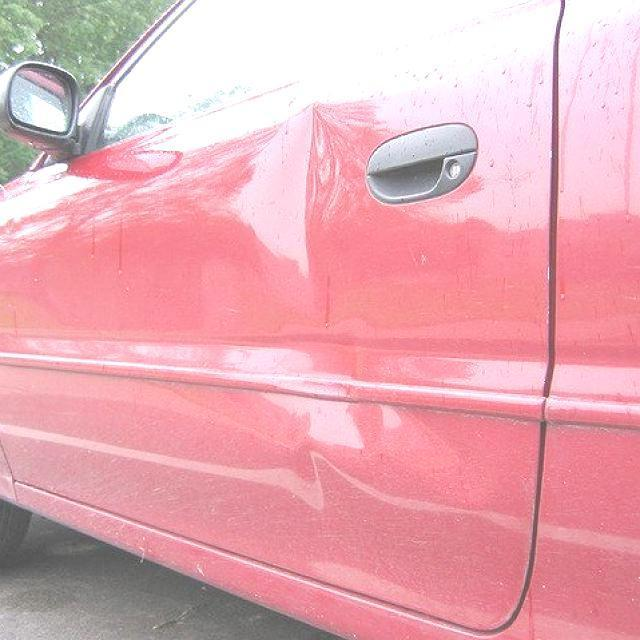minor: (204, 97, 523, 538)
